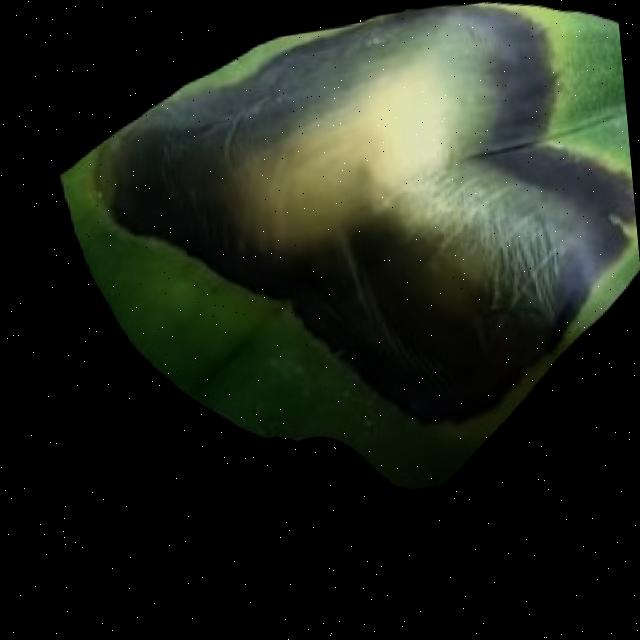mite: (181, 303, 290, 401), (185, 330, 263, 396), (355, 411, 385, 445), (283, 357, 313, 385)
